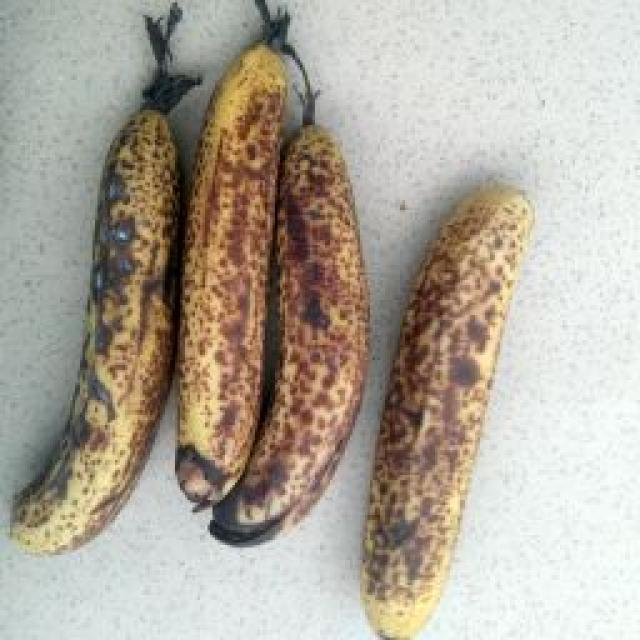banana: (92, 55, 563, 573)
